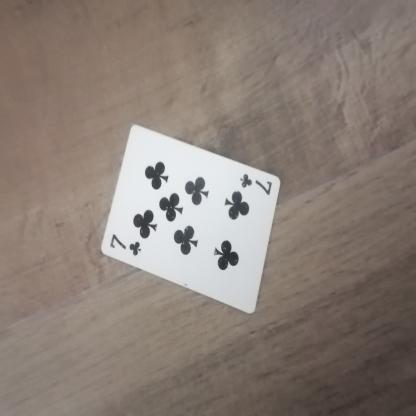7C: (236, 162, 283, 206), (109, 226, 143, 269)
